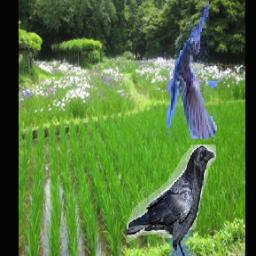Crow: (126, 146, 215, 256)
Swallow: (166, 2, 216, 142)
